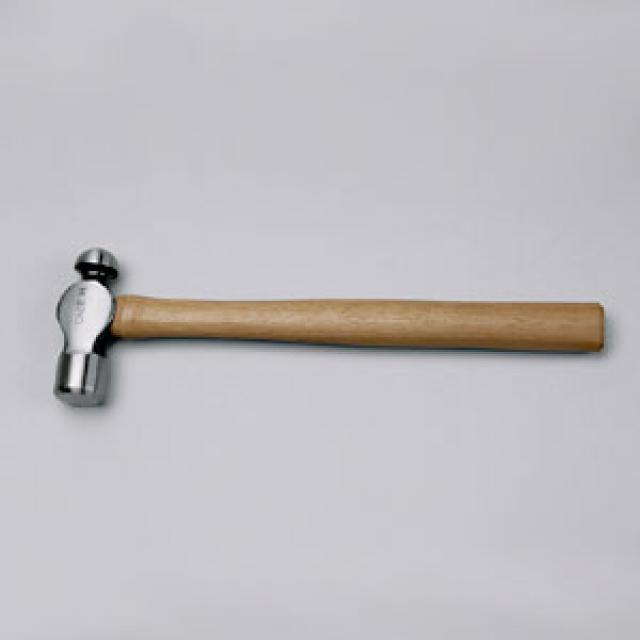hammer: (35, 238, 614, 410)
